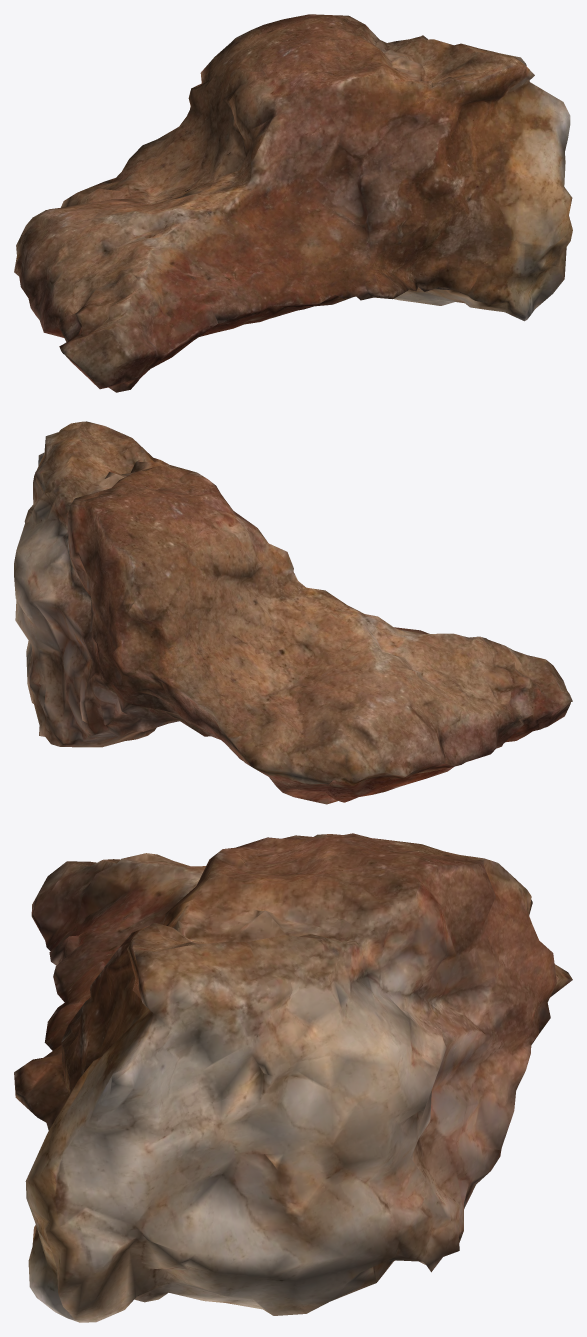
Rendered from stone_01.glb.
3 renders of one model, top to bottom at view 1: azimuth 30°, elevation 25°; view 2: azimuth 150°, elevation 25°; view 3: azimuth 270°, elevation 25°, orthographic. The views are drawn at different scales.
Visible parts, largest first — view 1: stone_01; view 2: stone_01; view 3: stone_01.
Part boxes in pixels (x1,y1,x2,y2): stone_01: (14, 14, 572, 392); stone_01: (14, 421, 572, 804); stone_01: (14, 833, 572, 1322).
Size of the model in its own units: 0.1464 by 0.071 by 0.089.
1 material, 1 textured.
